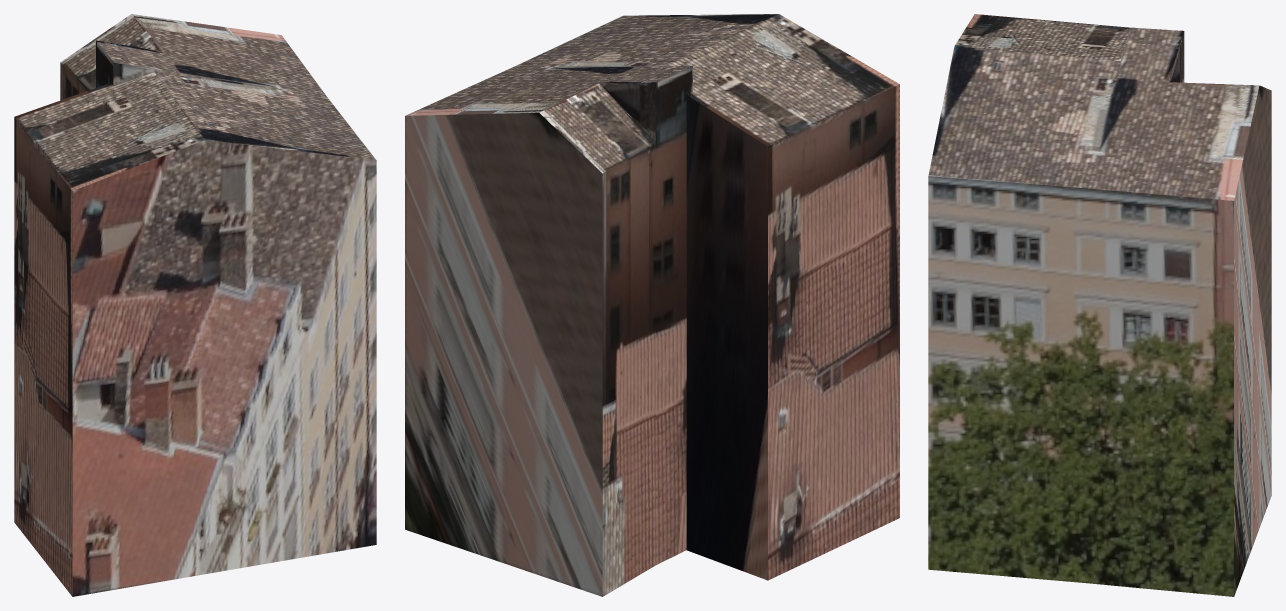
3 views of the same model, side by side, from view 1: azimuth 30°, elevation 25°; view 2: azimuth 150°, elevation 25°; view 3: azimuth 270°, elevation 25° (orthographic). The views are drawn at different scales.
Visible parts, largest first — view 1: Z_UP; view 2: Z_UP; view 3: Z_UP.
Boxes of the visible parts, box(x1,y1,x2,y2) form: Z_UP: box(14, 14, 376, 596); Z_UP: box(405, 14, 899, 596); Z_UP: box(928, 14, 1271, 596).
Bounding box in the file's own units: 18.34 × 23.51 × 15.86.
2 materials, 1 textured.
